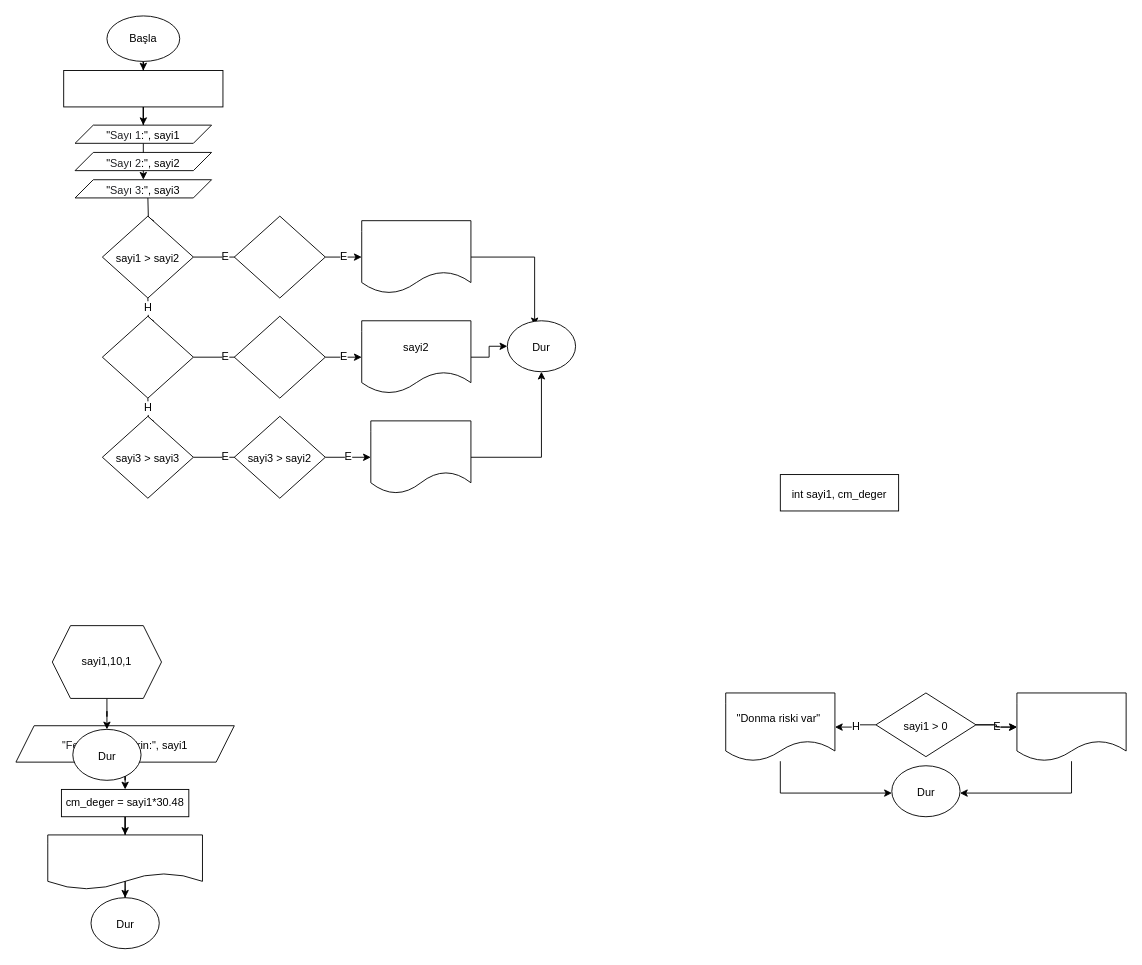
Image size: 1142x965. Some labels were removed from this diagram. The box of each missing label's shape, as (x1, y1, x2, y2) in pixels:
"Donma riski yok ": (1016, 692, 1126, 761)
"Girdiğiniz sayının cm cinsinden değeri: ", cm_deger: (47, 834, 202, 890)
int sayi1 , sayi2, sayi3: (63, 70, 223, 107)
sayi1: (361, 220, 471, 293)
sayi1 > sayi3: (233, 215, 325, 298)
sayi2 > sayi1: (101, 315, 193, 398)
sayi2 > sayi3: (233, 315, 325, 398)
sayi3: (370, 420, 471, 494)
